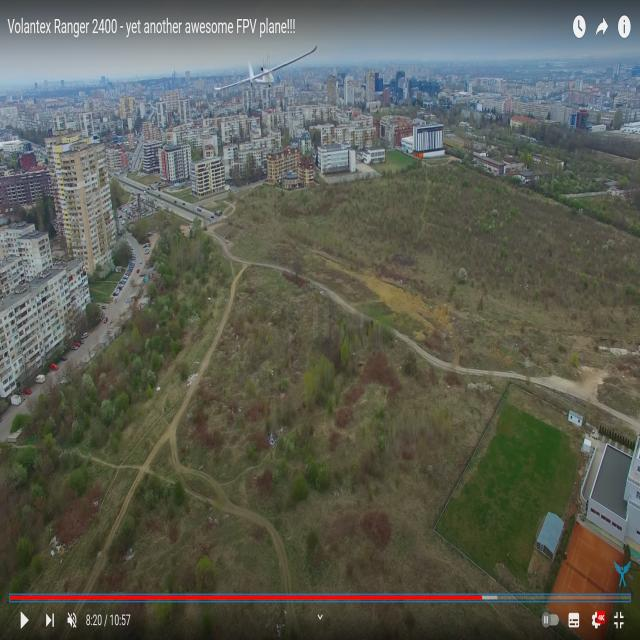iha: (234, 0, 279, 35)
